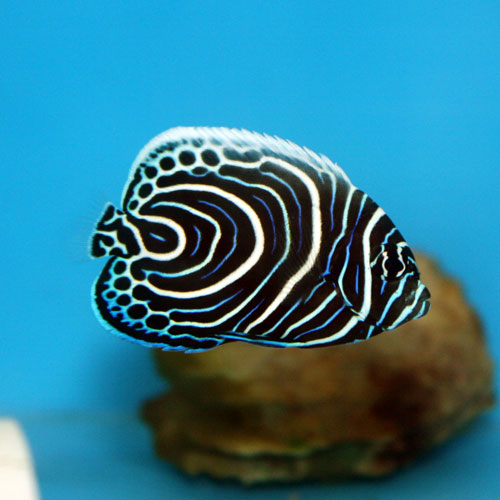Pomacanthus_imperator: (82, 115, 437, 361)
